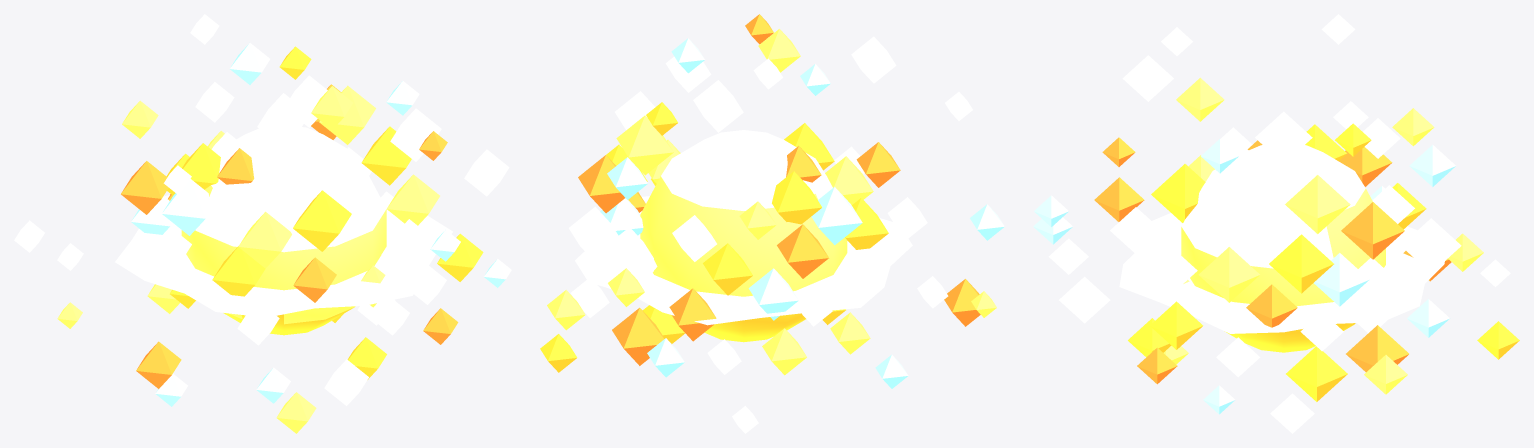
The model's file is globular_cluster.glb.
3 renders of one model, left to right at view 1: azimuth 30°, elevation 25°; view 2: azimuth 150°, elevation 25°; view 3: azimuth 270°, elevation 25°, orthographic.
Visible parts, largest first — view 1: swarm, body; view 2: swarm, body; view 3: swarm, body.
Boxes of the visible parts, <box> form: swarm: <box>14,14,511,433</box>; body: <box>115,125,452,335</box>; swarm: <box>540,14,1004,433</box>; body: <box>575,130,912,342</box>; swarm: <box>1033,14,1519,433</box>; body: <box>1119,145,1444,352</box>.
Bounding box in the file's own units: 162 × 128 × 158.
